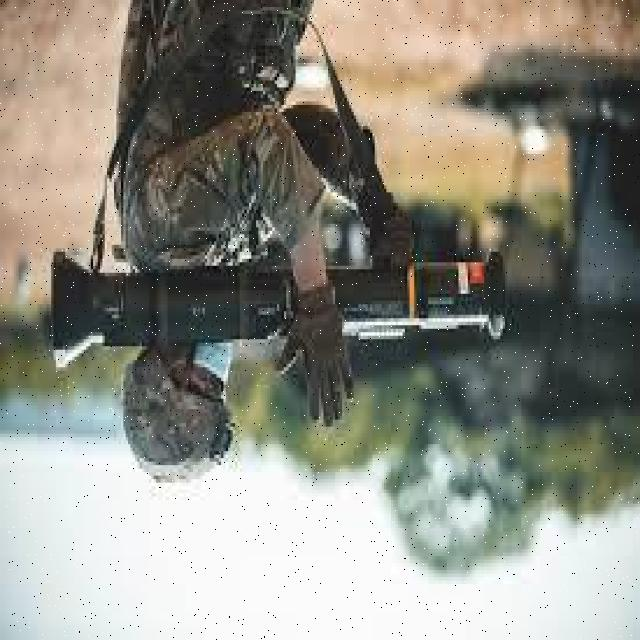bazooka: (41, 241, 514, 374)
